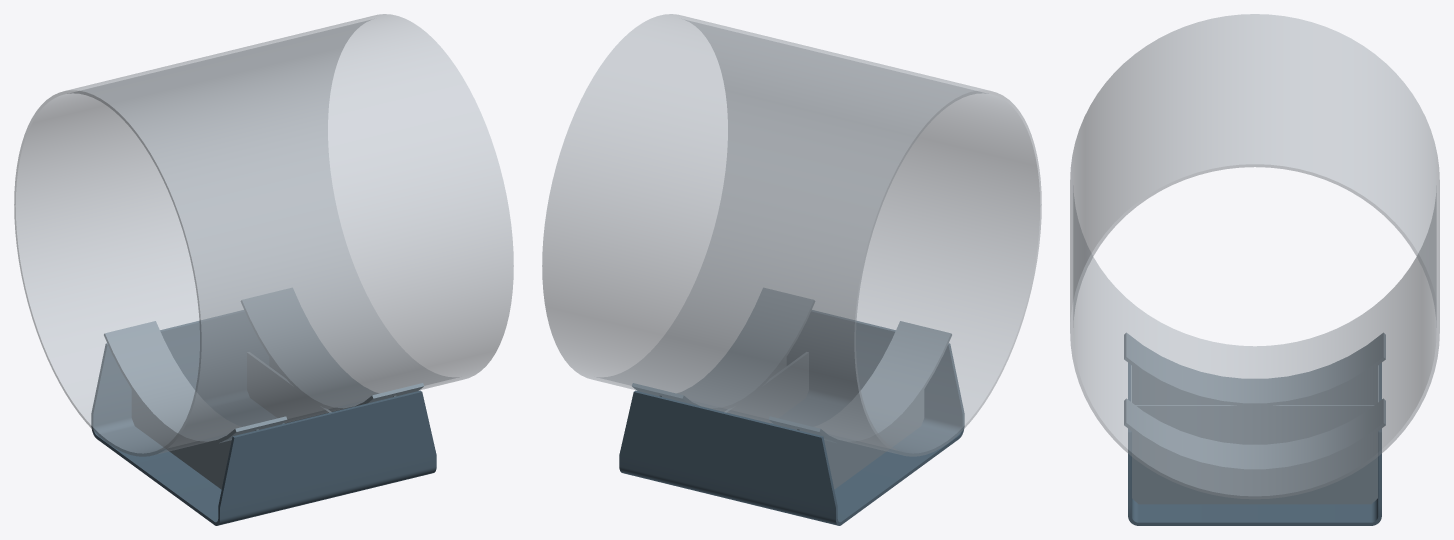
The model's file is TS-624.000-109-opora-dn1020-H150-L680.glb.
The picture shows the model from 3 angles, left to right: view 1: azimuth 30°, elevation 25°; view 2: azimuth 150°, elevation 25°; view 3: azimuth 270°, elevation 25°; orthographic projection.
Visible parts, largest first — view 1: truba, skoba, podushka_0, podushka_1, rebro3_0, rebro4_1; view 2: truba, skoba, podushka_0, podushka_1, rebro3_0, rebro4_1; view 3: truba, rebro3_1, podushka_0, podushka_1, rebro4_0, skoba, rebro3_0.
Part boxes in pixels (x1,y1,x2,y2): truba: (14,14,513,456); skoba: (91,310,436,525); podushka_0: (104,321,287,445); podushka_1: (241,288,423,411); rebro3_0: (131,390,258,489); rebro4_1: (247,352,331,423); truba: (542,14,1041,456); skoba: (619,310,964,525); podushka_0: (768,321,951,445); podushka_1: (632,288,814,411); rebro3_0: (797,390,924,489); rebro4_1: (724,352,808,423); truba: (1070,14,1439,499); rebro3_1: (1132,432,1377,504); podushka_0: (1124,332,1385,406); podushka_1: (1124,398,1385,472); rebro4_0: (1135,405,1374,444); skoba: (1128,363,1381,525); rebro3_0: (1132,366,1377,404).
Bounding box in the file's own units: 980 × 1171 × 1020.
